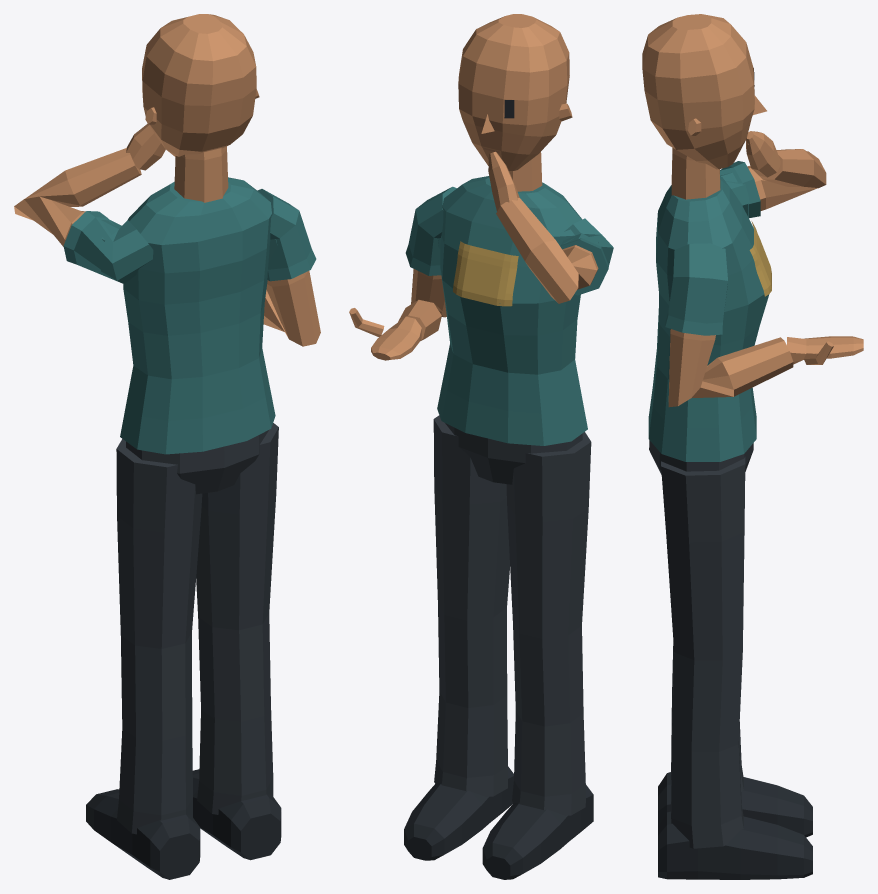
Rendered from lwf_attendee_female_eating_v2.glb.
3 views of the same model, side by side, from view 1: azimuth 30°, elevation 25°; view 2: azimuth 150°, elevation 25°; view 3: azimuth 270°, elevation 25° (orthographic). The views are drawn at different scales.
Visible parts, largest first — view 1: Attendee_female_eating_v6; view 2: Attendee_female_eating_v6; view 3: Attendee_female_eating_v6.
Part boxes in pixels (x1,y1,x2,y2): Attendee_female_eating_v6: (14,14,320,879); Attendee_female_eating_v6: (349,14,613,879); Attendee_female_eating_v6: (642,14,863,879).
Size of the model in its own units: 0.4921 by 1.66 by 0.3988.
Materials: 1 (1 with a texture image).
